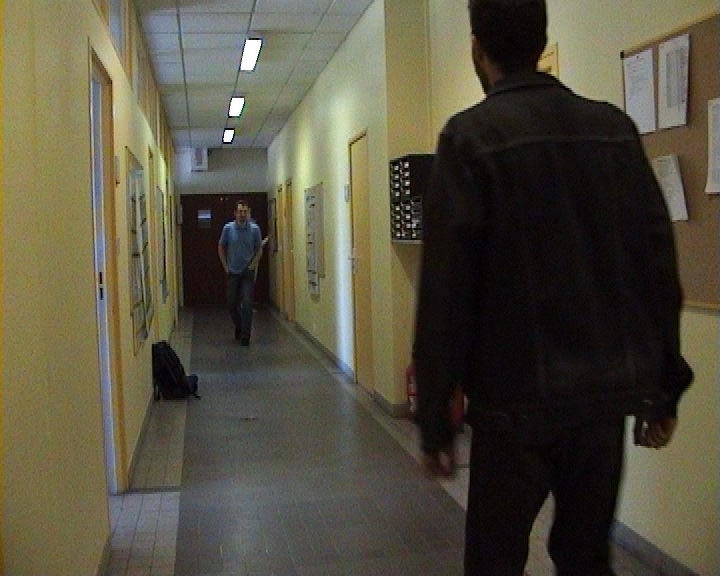leave bag unattended: (136, 323, 217, 426)
